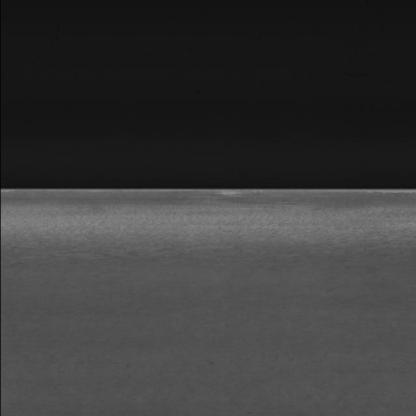silk_spot: (29, 224, 384, 292)
